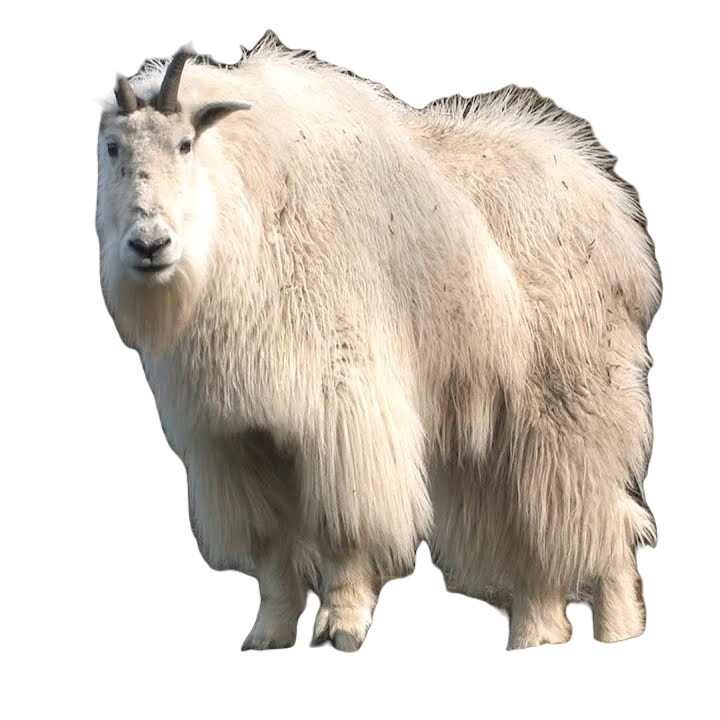Goat: (92, 39, 659, 648)
